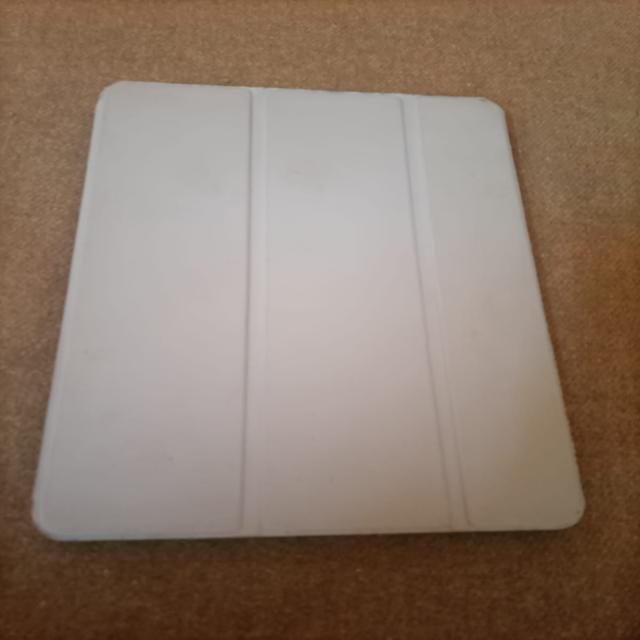tablet: (18, 22, 604, 563)
